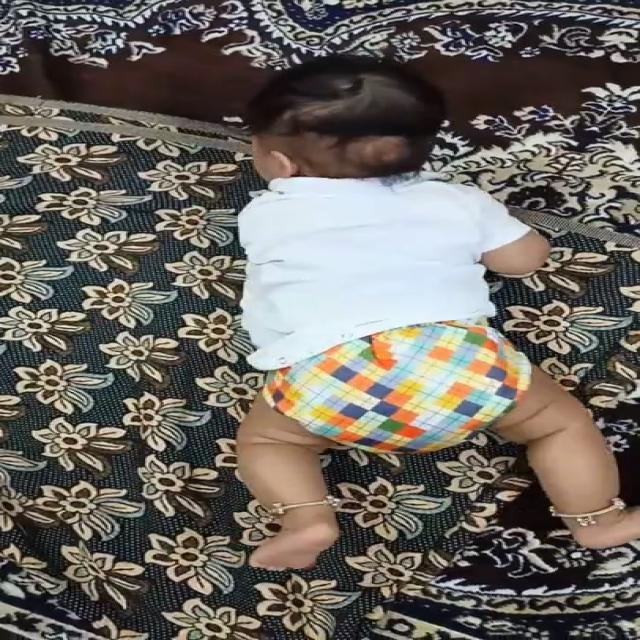baby: (203, 52, 640, 574)
